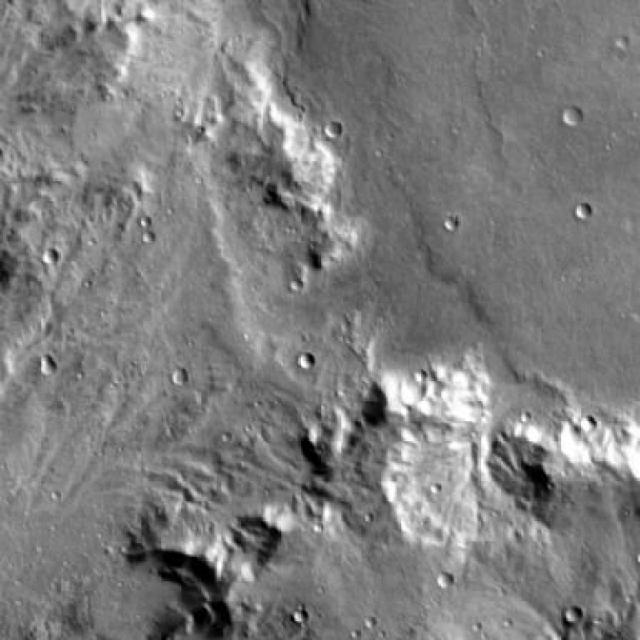crater: (82, 555, 222, 640), (573, 204, 595, 224), (562, 107, 584, 127), (297, 352, 314, 370), (41, 250, 58, 267), (322, 118, 340, 134)
